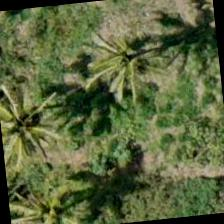Kelapa_Sawit: (71, 10, 170, 108), (0, 70, 75, 168), (6, 165, 96, 223)
